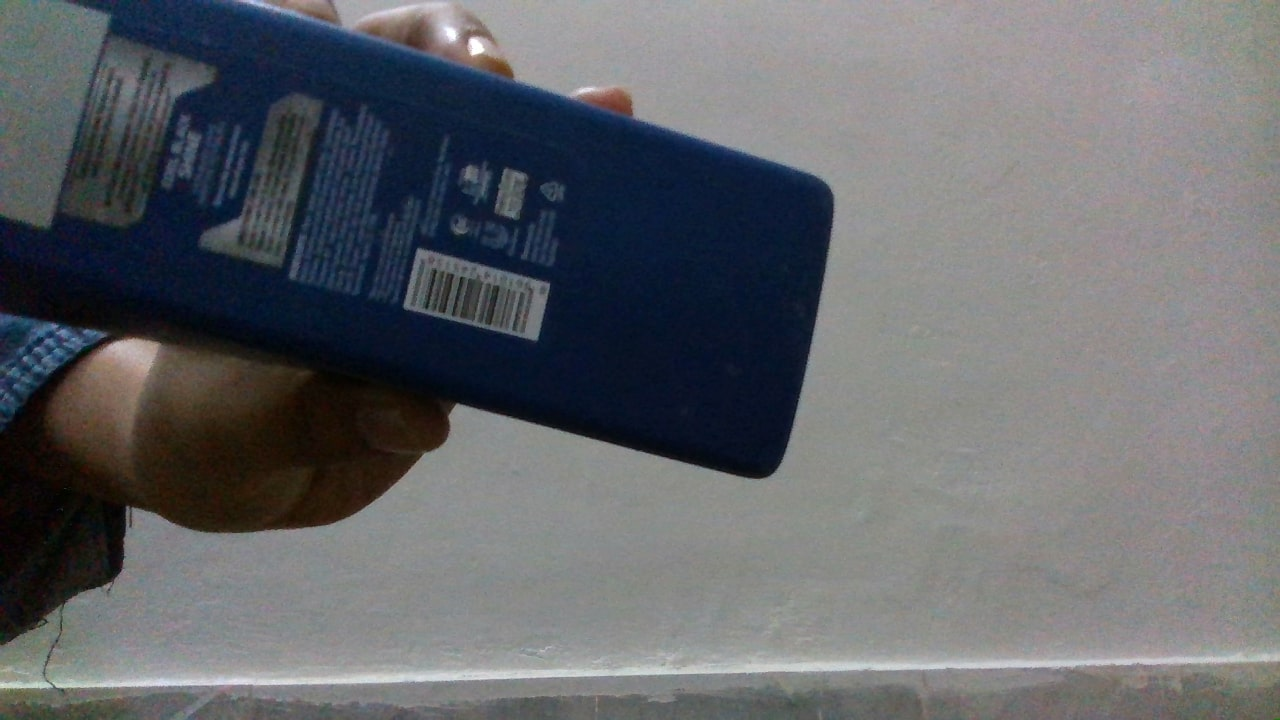Barcode: (408, 255, 538, 336)
